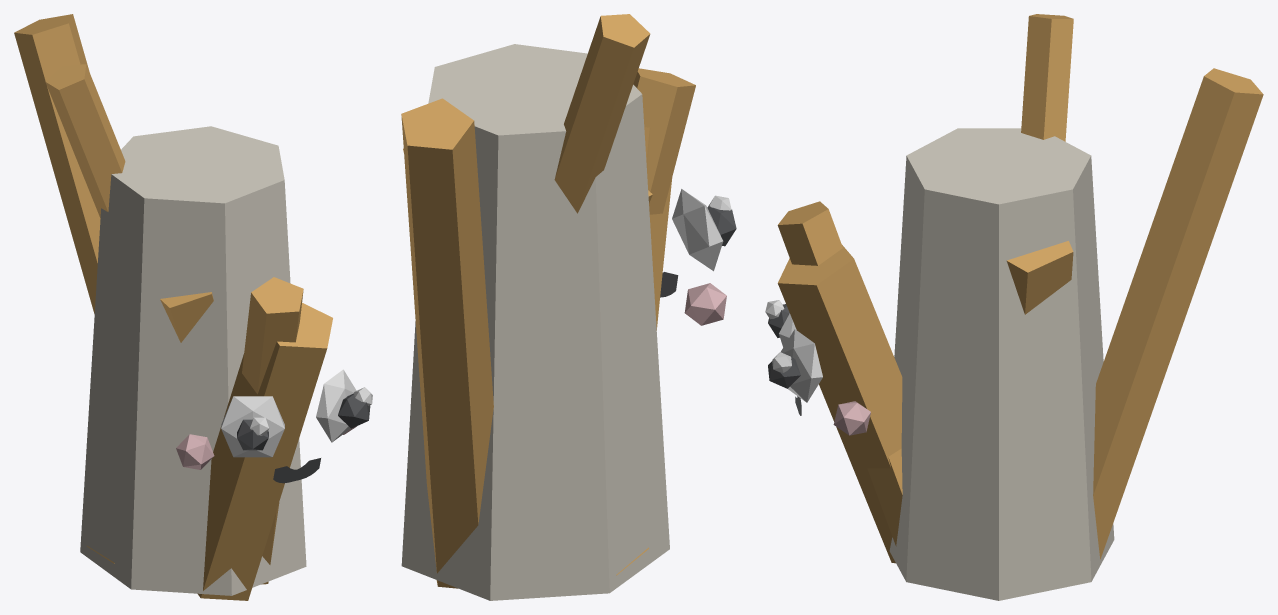
The model's file is xylaria-apiculata.glb.
3 renders of one model, left to right at view 1: azimuth 30°, elevation 25°; view 2: azimuth 150°, elevation 25°; view 3: azimuth 270°, elevation 25°, orthographic. The views are drawn at different scales.
Visible parts, largest first — view 1: stalk, branch1, branch3, branch5, branch4, pface-eye-r, pface-eye-l, branch2, pface-blush--1, pface-pupil-l, pface-smile, pface-pupil-r; view 2: stalk, branch3, branch5, branch4, pface-eye-r, branch1, pface-blush--1, pface-pupil-r; view 3: stalk, branch3, branch1, branch5, branch4, branch0, pface-eye-l, pface-blush-1.
Boxes of the visible parts, x1,y1,x2,y2 form: stalk: (80,126,306,595); branch1: (197,302,332,600); branch3: (14,14,100,313); branch5: (45,64,125,218); branch4: (242,277,303,584); pface-eye-r: (221,396,284,457); pface-eye-l: (316,369,356,442); branch2: (160,292,213,342); pface-blush--1: (176,434,214,469); pface-pupil-l: (338,393,370,428); pface-smile: (273,458,320,483); pface-pupil-r: (237,419,268,450); stalk: (401,44,669,600); branch3: (401,98,493,588); branch5: (554,14,650,213); branch4: (633,68,695,214); pface-eye-r: (672,189,723,271); branch1: (644,127,672,330); pface-blush--1: (684,283,726,325); pface-pupil-r: (707,205,736,246); stalk: (889,128,1114,600); branch3: (1093,68,1263,559); branch1: (777,245,902,563); branch5: (1021,14,1073,141); branch4: (777,201,902,546); branch0: (1006,241,1073,314); pface-eye-l: (781,329,822,402); pface-blush-1: (833,401,870,435).
Bounding box in the file's own units: 0.1087 × 0.2351 × 0.2104.
